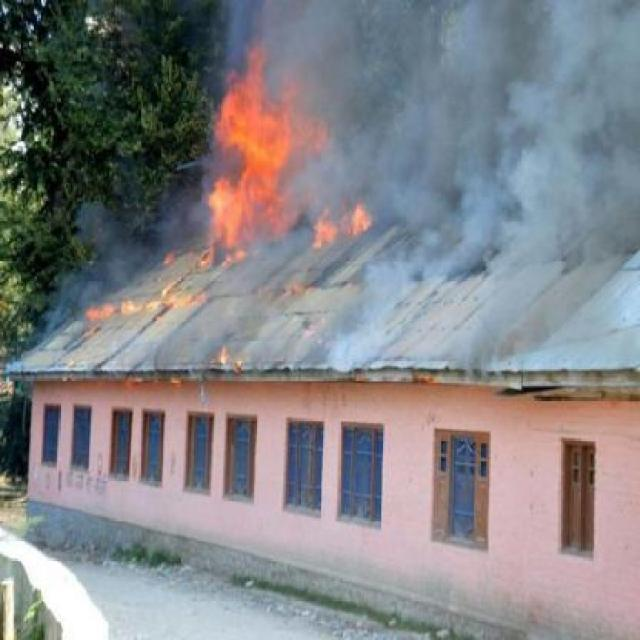Fire: (209, 77, 297, 259), (85, 292, 199, 322), (309, 209, 376, 254)
Smoke: (328, 7, 631, 198), (417, 202, 632, 270)
